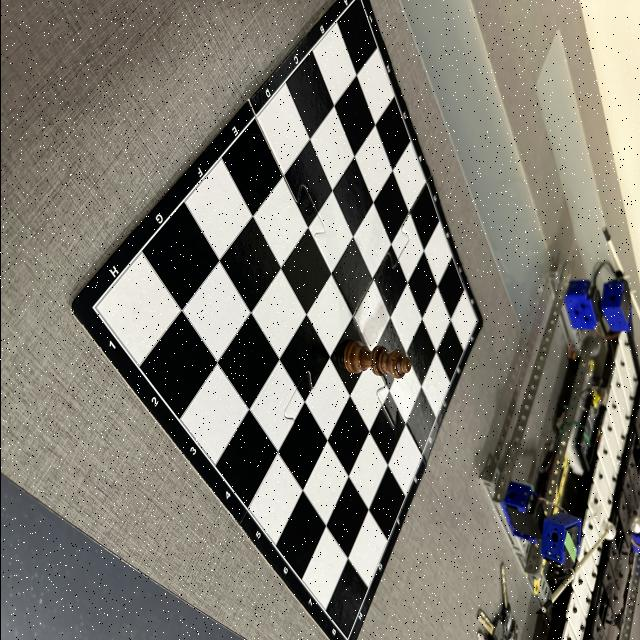Black-Queen: (342, 340, 410, 380)
